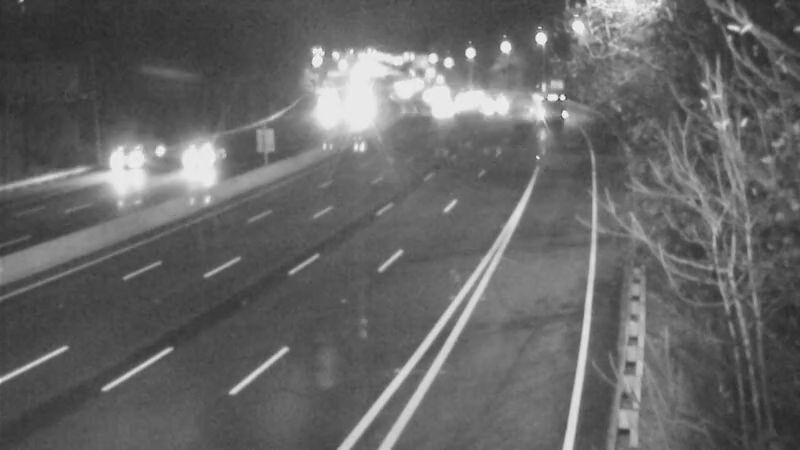vehicle: (96, 114, 176, 194), (166, 120, 246, 200), (436, 80, 486, 130), (517, 80, 567, 130), (471, 81, 521, 131), (415, 84, 465, 134)
